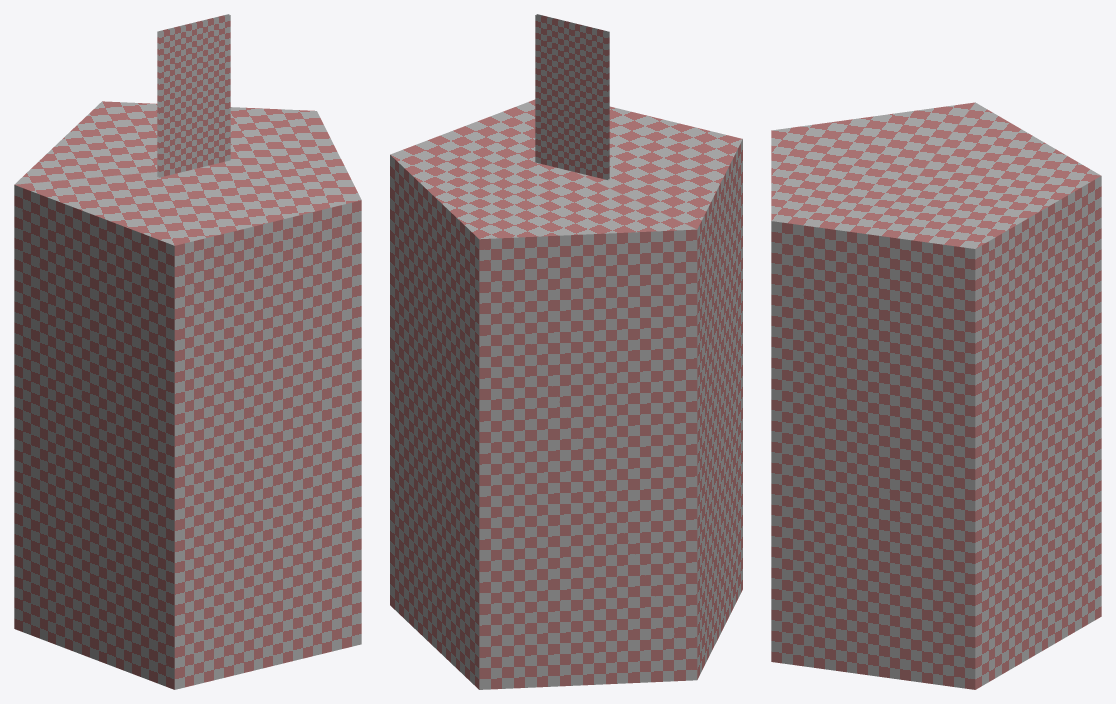
Rendered from candle.glb.
3 renders of one model, left to right at view 1: azimuth 30°, elevation 25°; view 2: azimuth 150°, elevation 25°; view 3: azimuth 270°, elevation 25°, orthographic. The views are drawn at different scales.
Parts seen in each view (by area): view 1: Cylinder; view 2: Cylinder; view 3: Cylinder.
Part boxes in pixels (x1,y1,x2,y2): Cylinder: [14, 14, 361, 689]; Cylinder: [390, 14, 742, 689]; Cylinder: [771, 102, 1101, 689].
Size of the model in its own units: 0.0713 by 0.1327 by 0.0678.
Materials: 1 (1 with a texture image).
